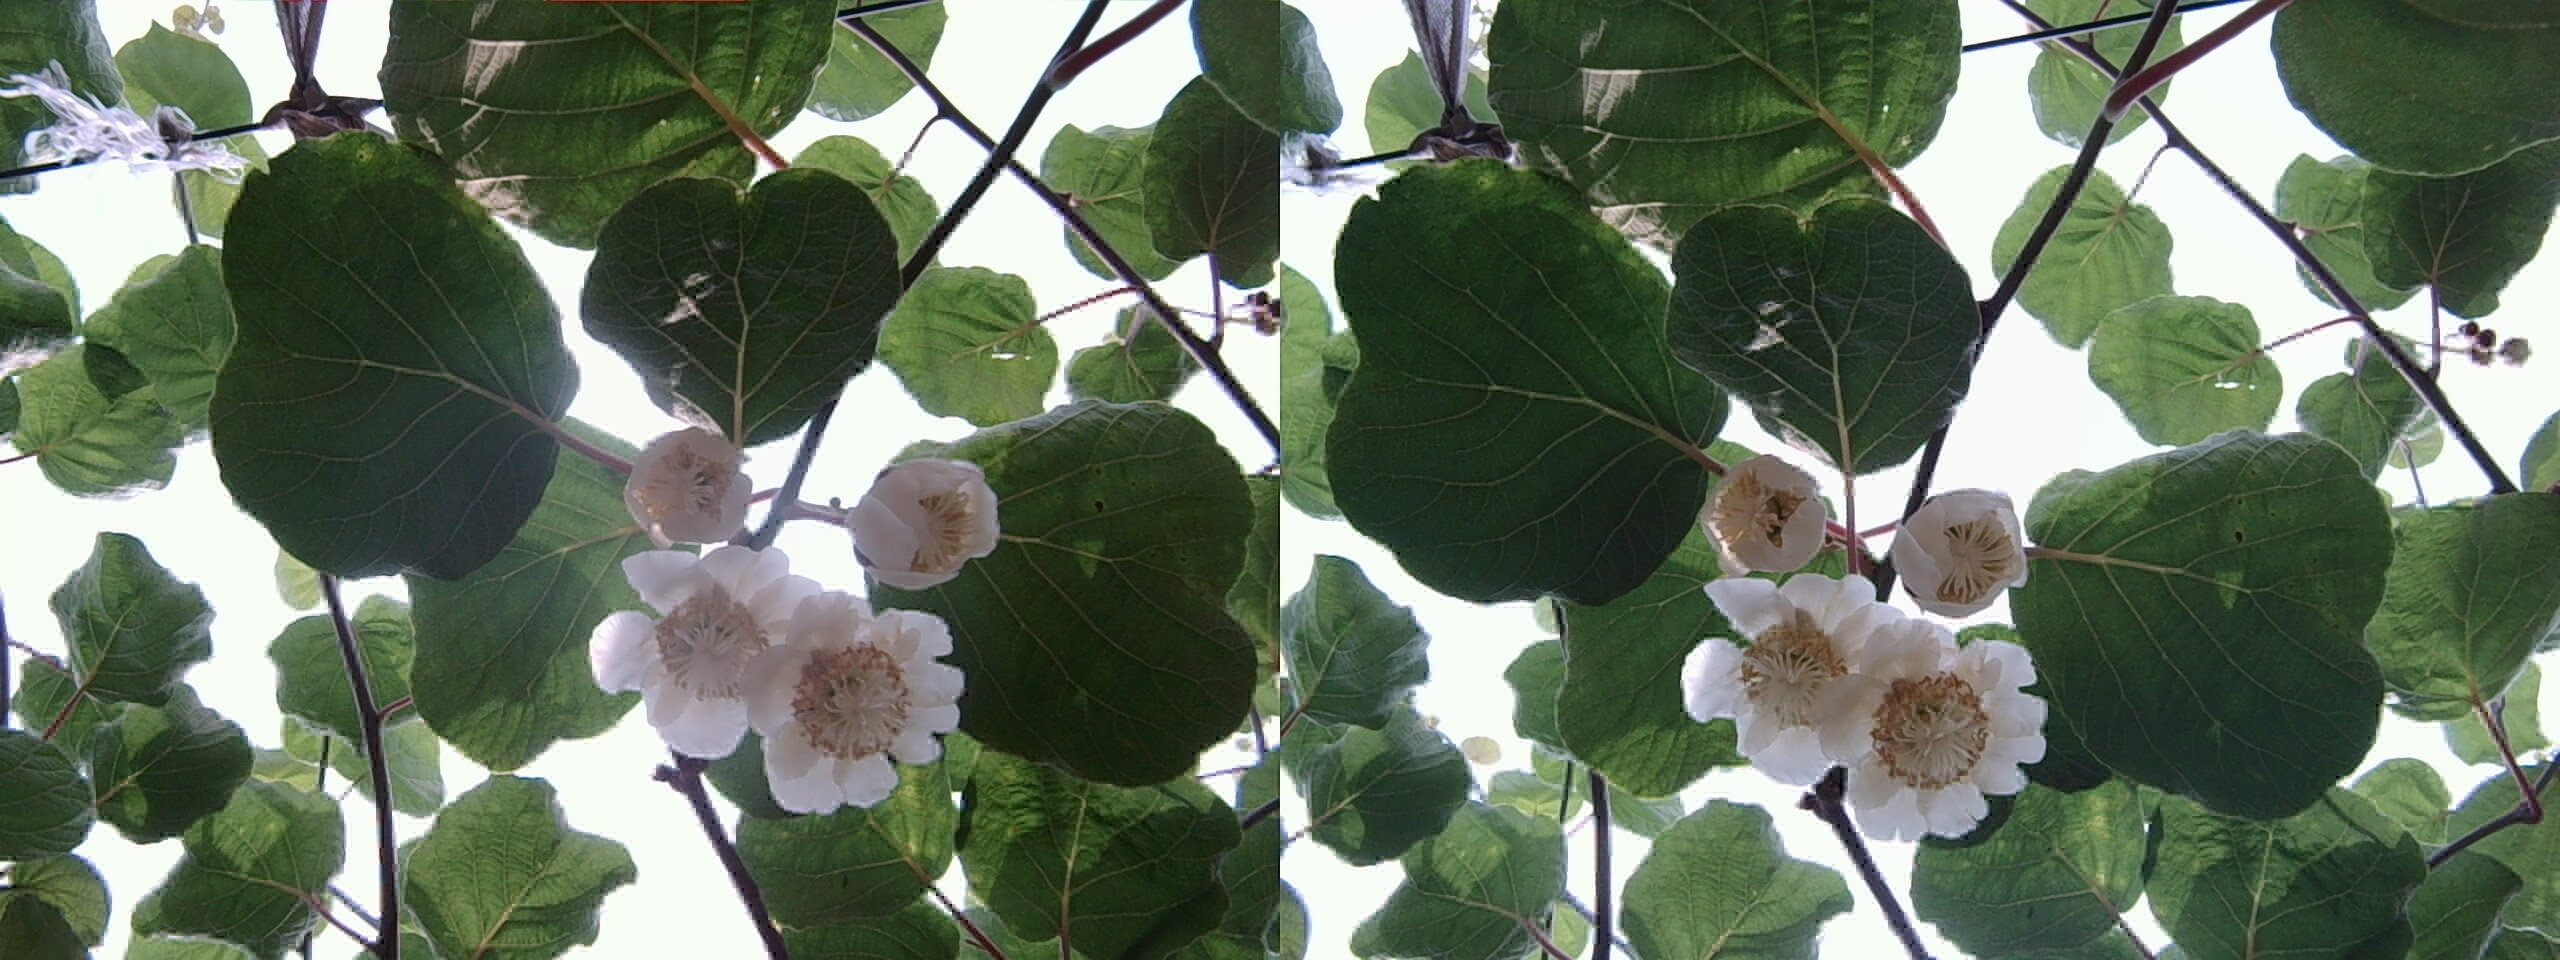flower: (717, 583, 967, 818), (581, 536, 793, 766), (1807, 629, 2044, 834), (1682, 563, 1896, 780), (842, 452, 999, 593), (1696, 447, 1851, 578), (1886, 482, 2028, 616), (622, 416, 749, 547)
